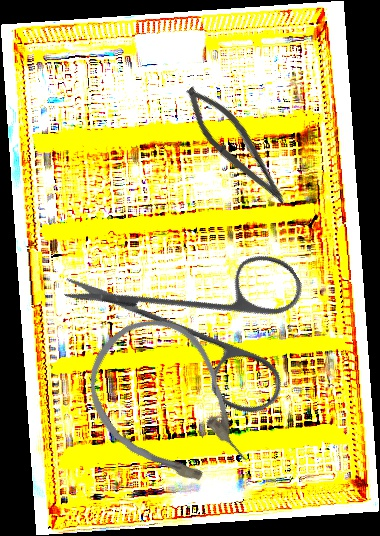Cannula: (63, 296, 274, 517)
Iris Scissors: (58, 176, 347, 467)
Micro Scissor: (173, 78, 301, 213)
